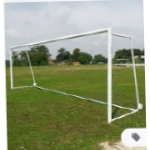goals: (9, 26, 141, 123)
